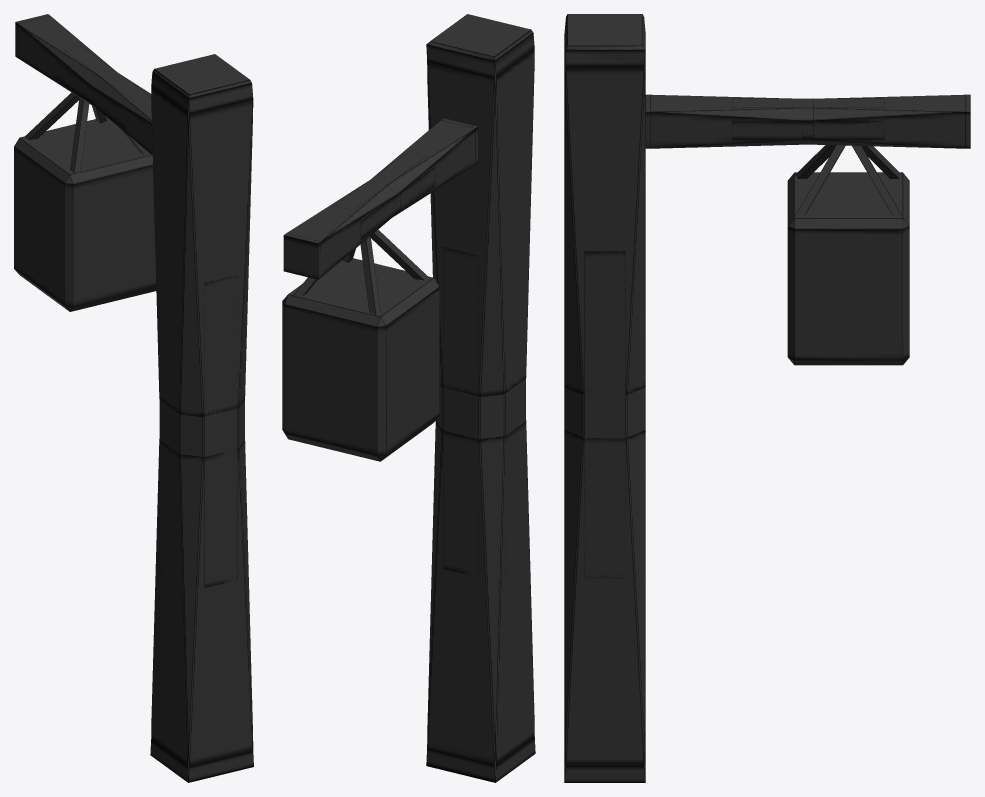
File: lamp.obj
The picture shows the model from 3 angles, left to right: view 1: azimuth 30°, elevation 25°; view 2: azimuth 150°, elevation 25°; view 3: azimuth 270°, elevation 25°; orthographic projection. The views are drawn at different scales.
Visible parts, largest first — view 1: Cube; view 2: Cube; view 3: Cube.
Part boxes in pixels (<box>): Cube: <box>14,14,253,782</box>; Cube: <box>282,14,535,782</box>; Cube: <box>564,14,970,782</box>.
Bounding box in the file's own units: 0.6 × 4 × 2.
